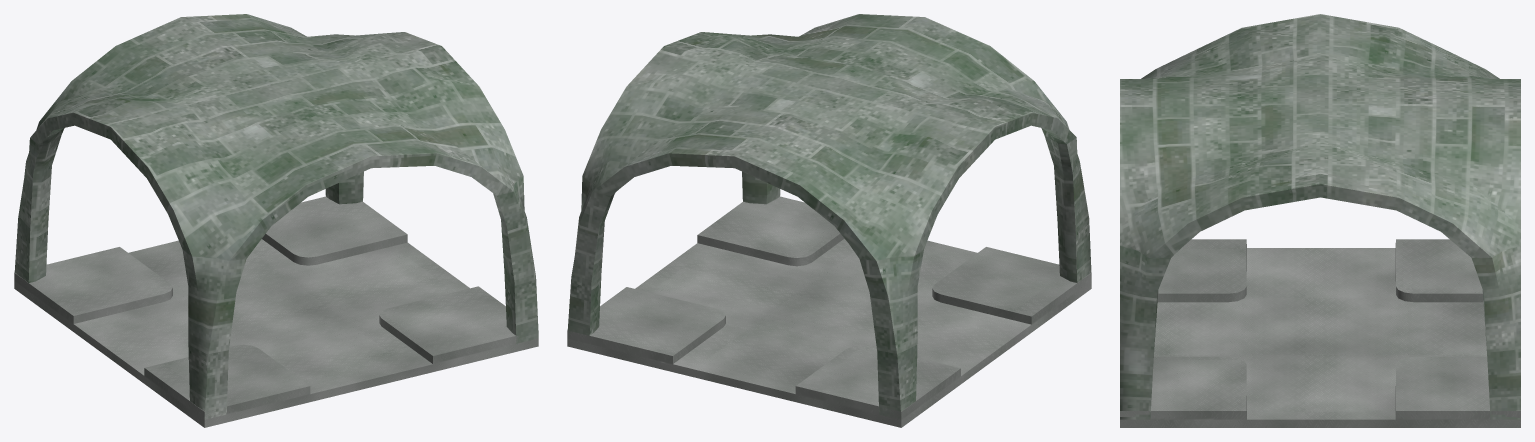
The model's file is Tunnel_Cross.glb.
3 views of the same model, side by side, from view 1: azimuth 30°, elevation 25°; view 2: azimuth 150°, elevation 25°; view 3: azimuth 270°, elevation 25° (orthographic). The views are drawn at different scales.
Visible parts, largest first — view 1: Tunnel_Cross; view 2: Tunnel_Cross; view 3: Tunnel_Cross.
Part boxes in pixels (x1,y1,x2,y2): Tunnel_Cross: [14, 14, 538, 427]; Tunnel_Cross: [567, 14, 1091, 427]; Tunnel_Cross: [1120, 14, 1520, 427].
Size of the model in its own units: 22.06 by 14.56 by 21.75.
Materials: 1 (1 with a texture image).
